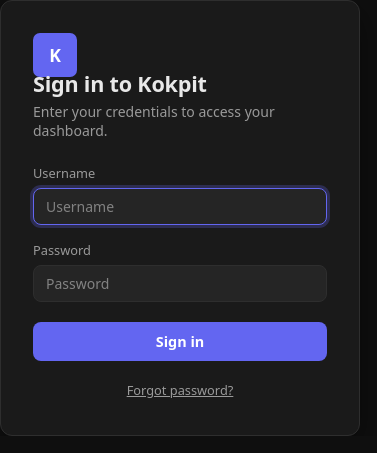
Test: LoginForm - credentials step › switches to the TOTP step when requiresTotp and challengeToken are present
The width and height of the screenshot is (377, 453).
Type "admin" into the field with placeholder "Username" at x=180, y=206, box [33,188,327,225]
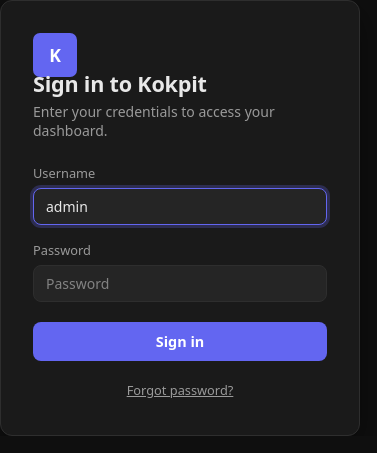
Type "secret" into the password field with placeholder "Password" at x=180, y=284, box [33,265,327,302]
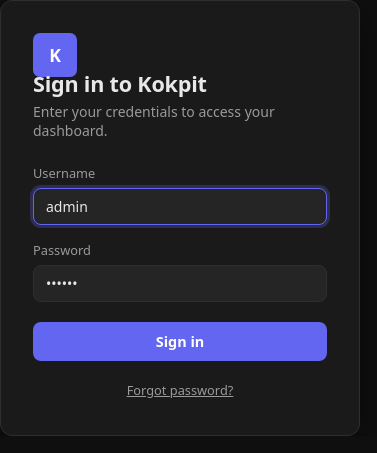
Click the button "Sign in" at x=180, y=342, box [33,322,327,361]
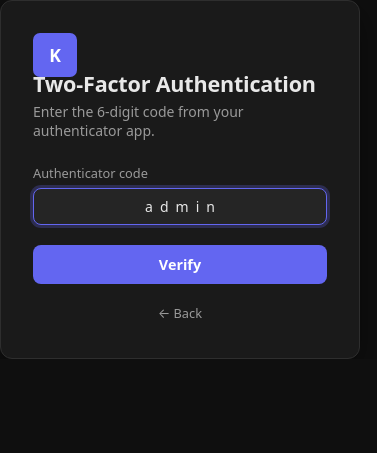
Expected: the heading "Two-Factor Authentication" is shown, [33,69,327,98]
